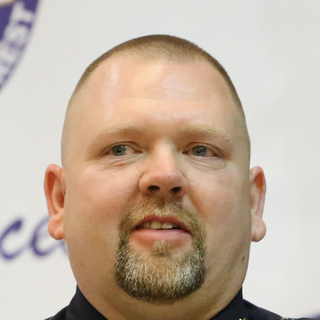eye: (178, 139, 226, 166), (97, 136, 143, 163)
